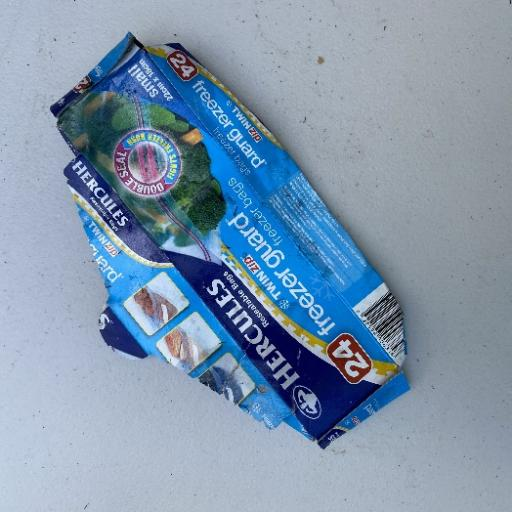Cardboard: (49, 32, 411, 450)
